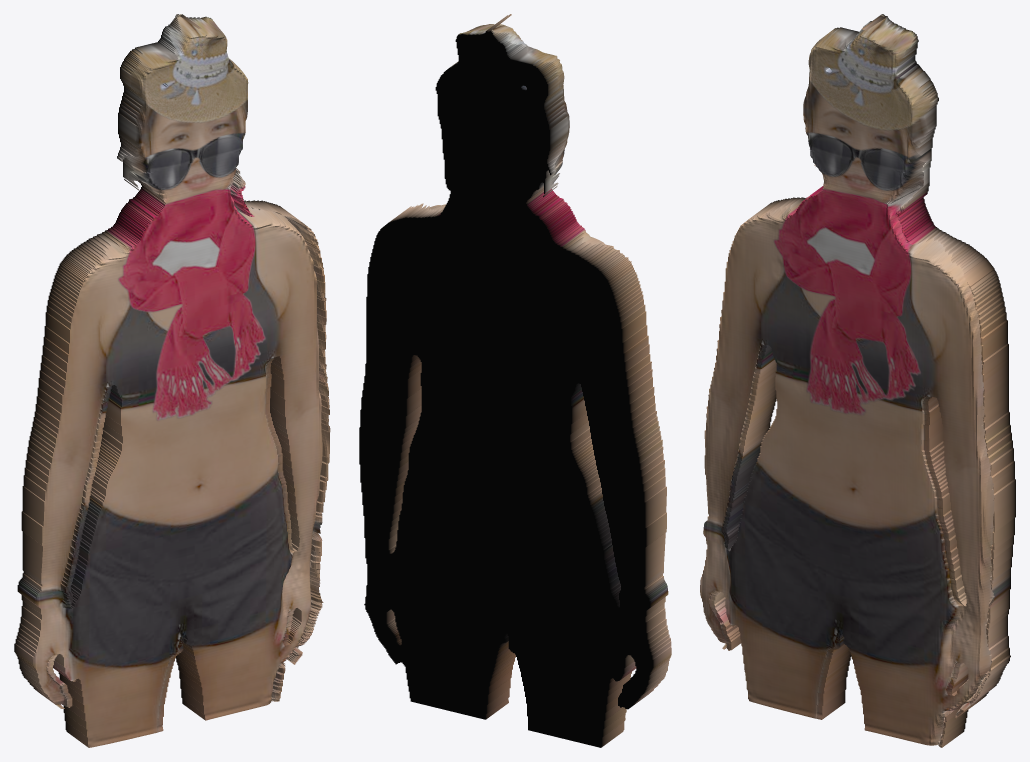
File: avatar_20260310_225314.glb
3 renders of one model, left to right at view 1: azimuth 30°, elevation 25°; view 2: azimuth 150°, elevation 25°; view 3: azimuth 330°, elevation 25°, orthographic.
Parts seen in each view (by area): view 1: world; view 2: world; view 3: world.
Part boxes in pixels (<box>): world: <box>14,14,330,747</box>; world: <box>359,14,671,747</box>; world: <box>700,14,1015,747</box>.
Size of the model in its own units: 0.984 by 2.21 by 0.1524.
